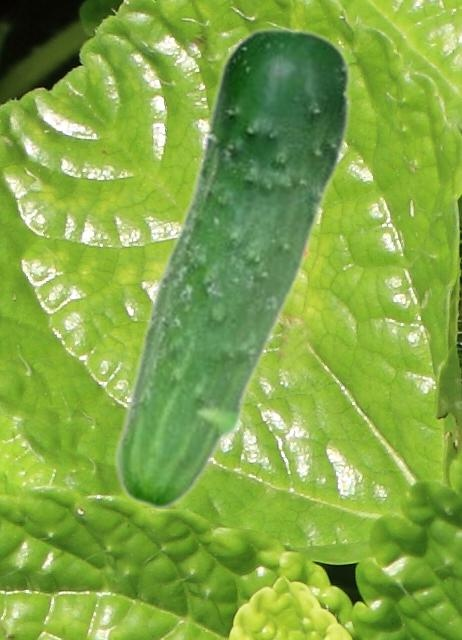cucumber: (111, 26, 352, 510)
